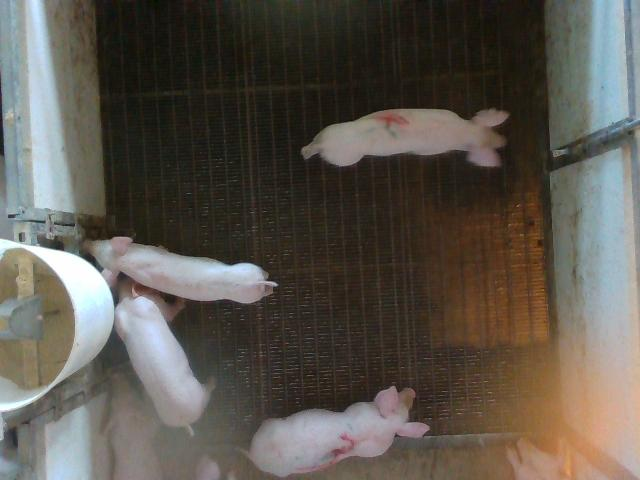pig-3: (248, 386, 429, 477)
pig-4: (301, 109, 509, 166)
